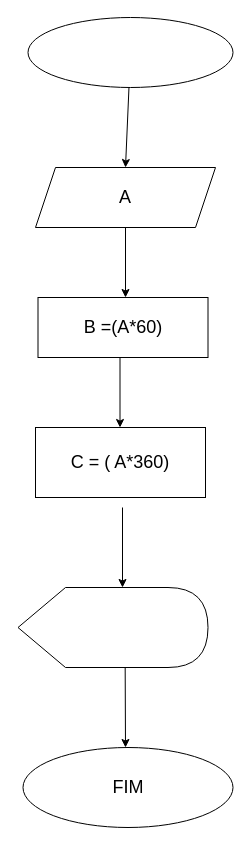
This 250x845 diagram has some shape labels left out. The shapes that lost their labels are listed below. From the top down, each one's centre as x and y in pixels, then its label:
the point at 130,52: INICIO
the point at 112,627: B,C
